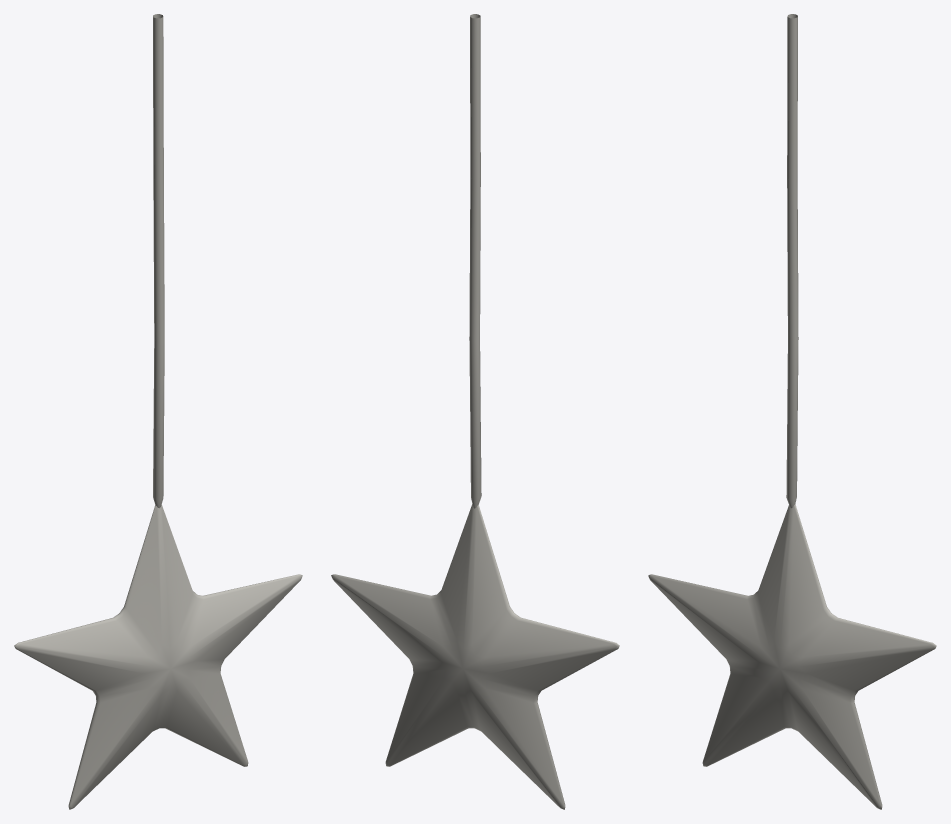
The model's file is PartyHangingStar02A_1.FBX.
The picture shows the model from 3 angles, left to right: view 1: azimuth 30°, elevation 25°; view 2: azimuth 150°, elevation 25°; view 3: azimuth 330°, elevation 25°; orthographic projection.
Parts seen in each view (by area): view 1: PartyHangingStar02A_1; view 2: PartyHangingStar02A_1; view 3: PartyHangingStar02A_1.
Part boxes in pixels (box(x1,y1,x2,y2)): PartyHangingStar02A_1: box(14, 14, 302, 809); PartyHangingStar02A_1: box(331, 14, 619, 809); PartyHangingStar02A_1: box(648, 14, 936, 809).
Size of what is drawn, in the model's own units: 0.302 by 0.7713 by 0.0451.
